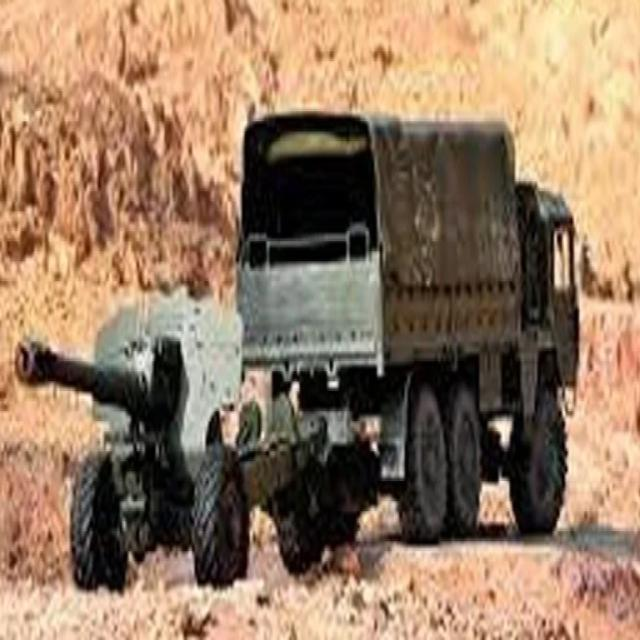ART: (12, 292, 256, 587)
TRUCK: (238, 104, 582, 545)
